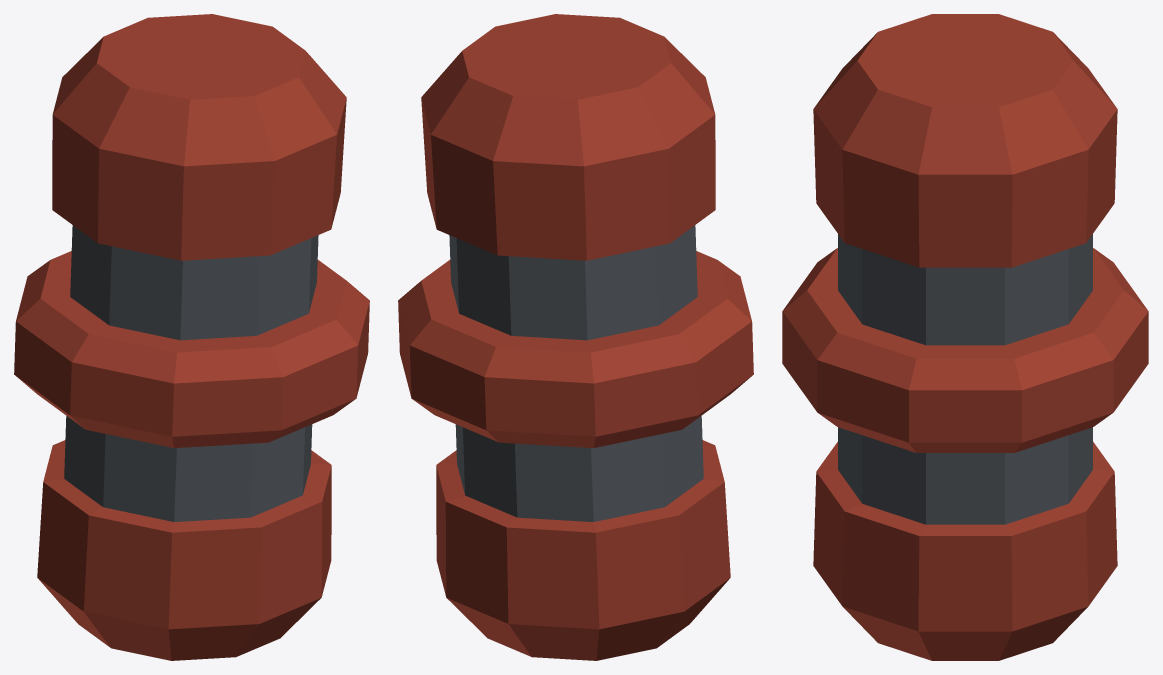
Rendered from Dropship_05_Fuse_Red.fbx.
3 views of the same model, side by side, from view 1: azimuth 30°, elevation 25°; view 2: azimuth 150°, elevation 25°; view 3: azimuth 270°, elevation 25° (orthographic).
Visible parts, largest first — view 1: Dropship_05_Fuse_Red; view 2: Dropship_05_Fuse_Red; view 3: Dropship_05_Fuse_Red.
Boxes of the visible parts, left/top/right/bottom form: Dropship_05_Fuse_Red: left=14, top=14, right=369, bottom=660; Dropship_05_Fuse_Red: left=398, top=14, right=753, bottom=660; Dropship_05_Fuse_Red: left=782, top=14, right=1148, bottom=660.
Bounding box in the file's own units: 53.92 × 96.76 × 56.4.
1 material, 1 textured.
